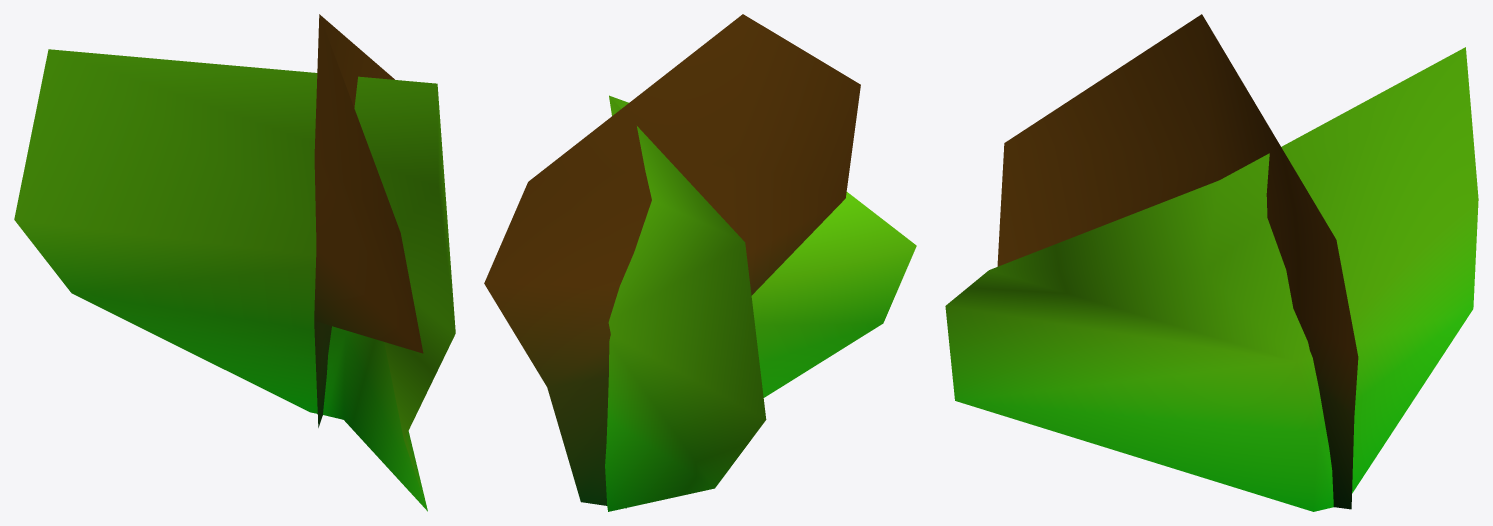
The model's file is Var1Hi9.fbx.
The picture shows the model from 3 angles, left to right: view 1: azimuth 30°, elevation 25°; view 2: azimuth 150°, elevation 25°; view 3: azimuth 270°, elevation 25°; orthographic projection.
Visible parts, largest first — view 1: bend1; view 2: bend1; view 3: bend1.
Boxes of the visible parts, bbox=[...] form: bend1: bbox=[14, 14, 455, 511]; bend1: bbox=[484, 14, 916, 511]; bend1: bbox=[945, 14, 1478, 511].
Bounding box in the file's own units: 1.04 × 1.36 × 1.41.
